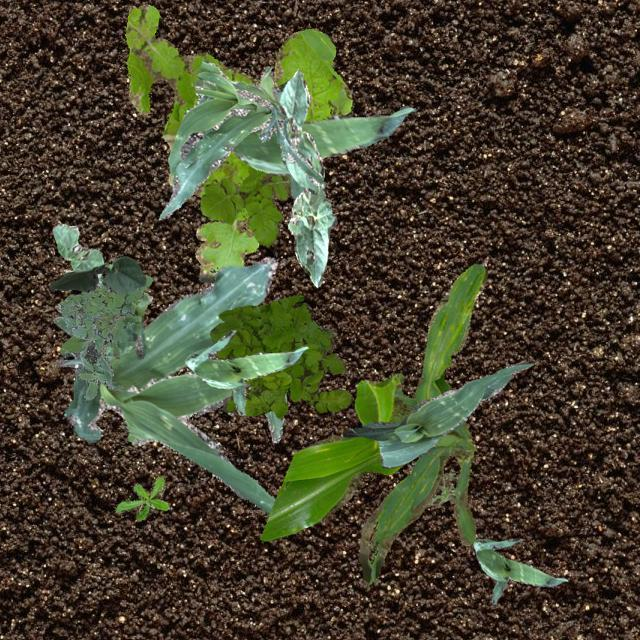crop: (259, 262, 486, 584), (62, 256, 276, 514), (157, 60, 320, 218), (230, 80, 412, 200), (342, 360, 534, 468), (185, 328, 306, 414), (57, 276, 152, 366), (472, 536, 566, 602), (278, 68, 324, 194), (286, 180, 336, 286), (49, 255, 144, 292), (52, 222, 102, 270), (264, 409, 282, 442)
weed: (124, 3, 352, 282), (208, 294, 352, 416), (200, 163, 290, 244), (56, 274, 152, 342), (52, 314, 122, 400), (114, 476, 168, 520), (426, 472, 458, 507)
